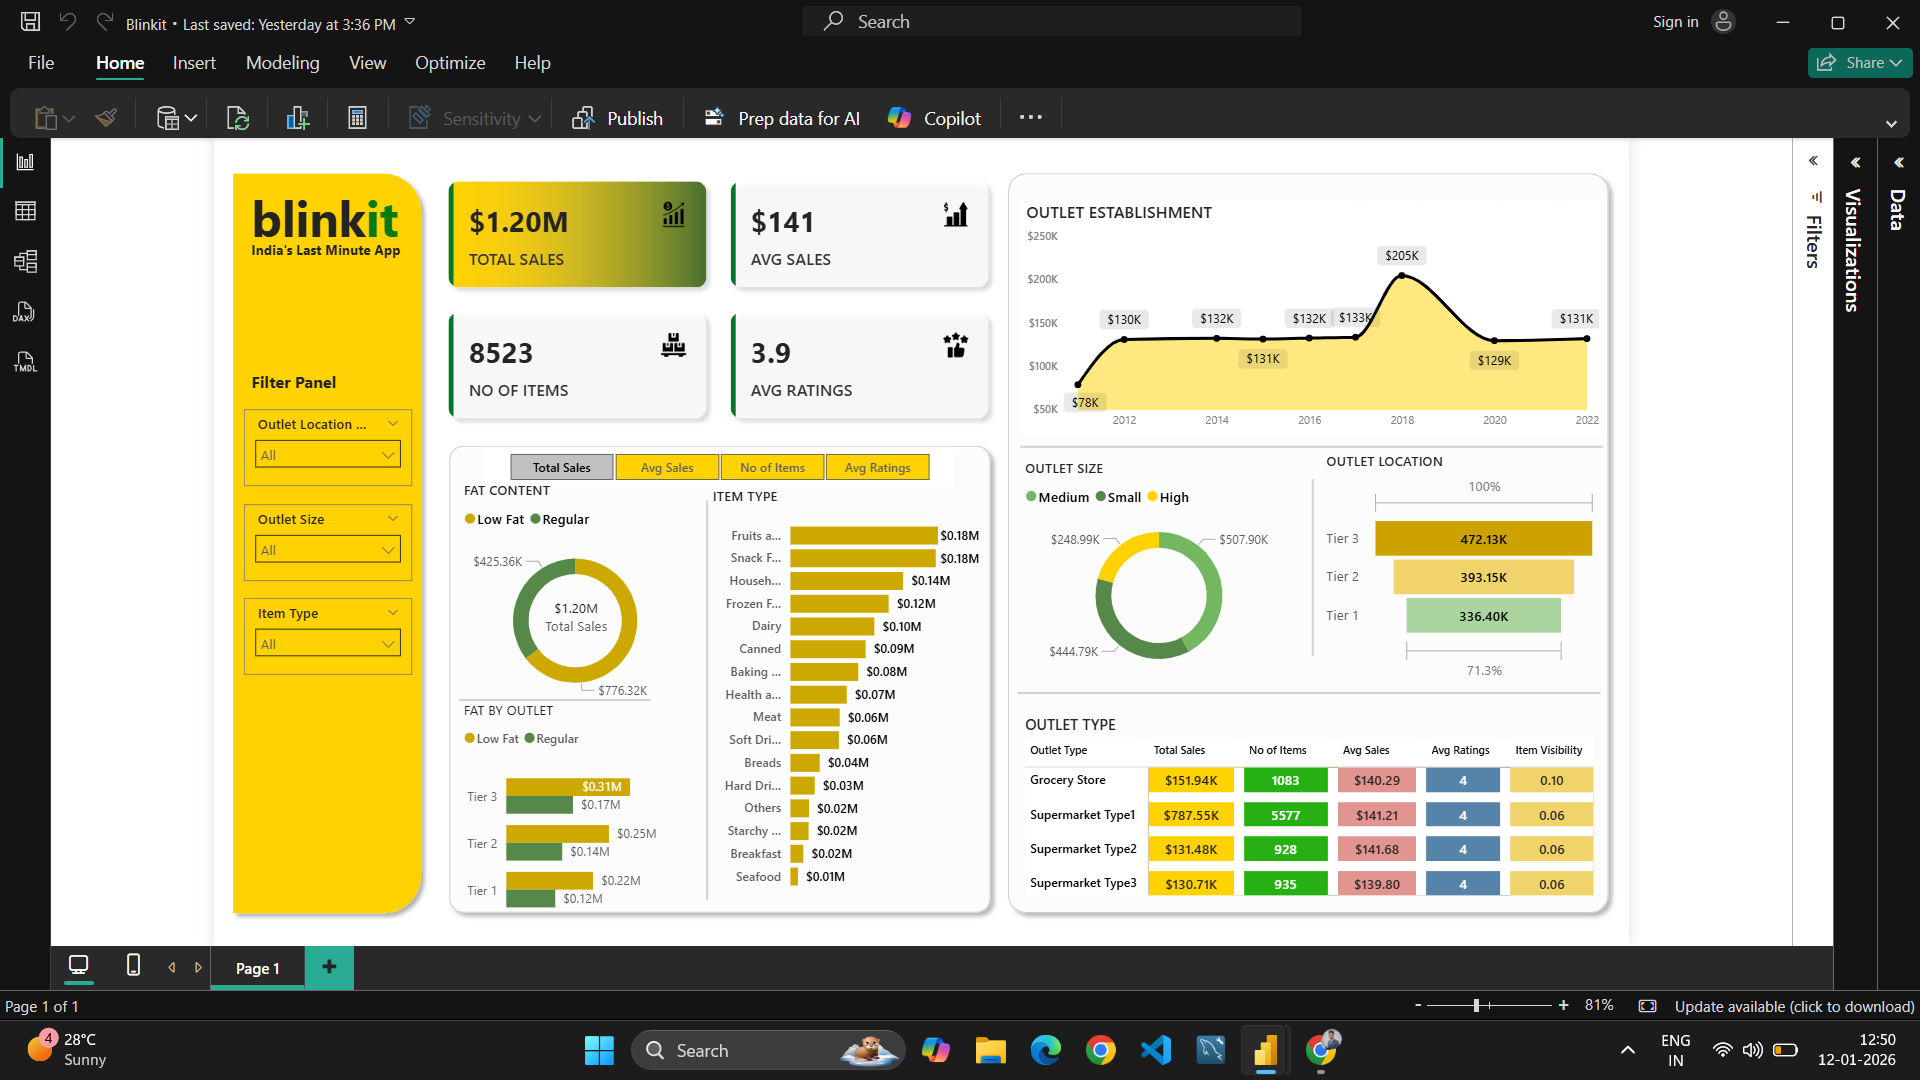

The dashboard page shown, as its layout file describes it:
{"tool":"powerbi","page":{"name":"Page 1","canvas":[1400,800],"ordinal":0},"visuals":[{"type":"shape","box":[10.5,25.5,204.1,750.4],"z":0},{"type":"textbox","box":[32.7,40.9,170.4,80.4],"z":1000},{"type":"textbox","box":[32.7,96.8,170.4,34.1],"z":2000},{"type":"cardVisual","fields":{"Data":["BlinkIT Grocery Data.Total Sales","BlinkIT Grocery Data.Avg Sales","BlinkIT Grocery Data.No of Items","BlinkIT Grocery Data.Avg Ratings"]},"box":[215.4,25.9,569.9,269.9],"z":3000},{"type":"shape","box":[223.6,295.8,553.5,479.9],"z":4000},{"type":"slicer","fields":{"Values":["Metrics.Metrics"]},"box":[267.2,305.4,464.9,39.5],"z":5000},{"type":"donutChart","title":"FAT CONTENT","fields":{"Y":["BlinkIT Grocery Data.Total Sales"],"Category":["BlinkIT Grocery Data.Item Fat Content"]},"box":[242.7,339.5,230.4,230.4],"z":6000},{"type":"cardVisual","fields":{"Data":["BlinkIT Grocery Data.Total Sales"]},"box":[302.7,439,111.8,61.4],"z":7000},{"type":"clusteredBarChart","title":"FAT BY OUTLET","fields":{"Y":["BlinkIT Grocery Data.Total Sales"],"Category":["BlinkIT Grocery Data.Outlet Location Type"],"Series":["BlinkIT Grocery Data.Item Fat Content"]},"box":[242.7,556.2,219.5,230.4],"z":8000},{"type":"shape","box":[242.7,541.2,189.5,28.6],"z":9000},{"type":"shape","box":[474.4,358.6,25.9,395.4],"z":10000},{"type":"clusteredBarChart","title":"ITEM TYPE","fields":{"Y":["BlinkIT Grocery Data.Total Sales"],"Category":["BlinkIT Grocery Data.Item Type"]},"box":[488.1,344.9,274,409],"z":11000},{"type":"shape","box":[777.1,25.9,612.1,749.8],"z":12000},{"type":"lineChart","title":"OUTLET ESTABLISHMENT","fields":{"Y":["BlinkIT Grocery Data.Total Sales"],"Category":["BlinkIT Grocery Data.Outlet Establishment Year"]},"box":[798.9,61.4,576.7,234.5],"z":13000},{"type":"shape","box":[797.6,291.8,576.7,27.3],"z":14000},{"type":"donutChart","title":"OUTLET SIZE","fields":{"Y":["BlinkIT Grocery Data.Total Sales"],"Category":["BlinkIT Grocery Data.Outlet Size"]},"box":[797.6,316.3,275,225],"z":15000},{"type":"shape","box":[1081.1,338.1,12.3,174.5],"z":16000},{"type":"funnel","title":"OUTLET LOCATION","fields":{"Y":["Sum(BlinkIT Grocery Data.Sales)"],"Category":["BlinkIT Grocery Data.Outlet Location Type"]},"box":[1096.1,310.8,278.1,230.4],"z":17000},{"type":"shape","box":[794.8,535.8,576.7,27.3],"z":18000},{"type":"pivotTable","title":"OUTLET TYPE","fields":{"Rows":["BlinkIT Grocery Data.Outlet Type"],"Values":["BlinkIT Grocery Data.Total Sales","BlinkIT Grocery Data.No of Items","BlinkIT Grocery Data.Avg Sales","BlinkIT Grocery Data.Avg Ratings","Avg(BlinkIT Grocery Data.Item Visibility)"]},"box":[797.6,569.9,574,212.7],"z":19000},{"type":"slicer","fields":{"Values":["BlinkIT Grocery Data.Outlet Size"]},"box":[30,362.6,166.3,76.3],"z":20000},{"type":"slicer","fields":{"Values":["BlinkIT Grocery Data.Outlet Location Type"]},"box":[30,268.6,166.3,76.3],"z":21000},{"type":"slicer","fields":{"Values":["BlinkIT Grocery Data.Item Type"]},"box":[30,455.4,166.3,76.3],"z":22000},{"type":"textbox","box":[32.7,225,170.4,34.1],"z":23000}]}

Visuals, with their boxes on the page's 1400x800 design canvas (x1, y1, x2, y2). These are canvas units, not pixel positions in the 1920x1080 screenshot, which may show the page scaled, cropped or inside an application window:
shape: region(10, 26, 215, 776)
textbox: region(33, 41, 203, 121)
textbox: region(33, 97, 203, 131)
cardVisual - BlinkIT Grocery Data.Total Sales x BlinkIT Grocery Data.Avg Sales: region(215, 26, 785, 296)
shape: region(224, 296, 777, 776)
slicer - Metrics.Metrics: region(267, 305, 732, 345)
"FAT CONTENT" donutChart: region(243, 340, 473, 570)
cardVisual - BlinkIT Grocery Data.Total Sales: region(303, 439, 414, 500)
"FAT BY OUTLET" clusteredBarChart: region(243, 556, 462, 787)
shape: region(243, 541, 432, 570)
shape: region(474, 359, 500, 754)
"ITEM TYPE" clusteredBarChart: region(488, 345, 762, 754)
shape: region(777, 26, 1389, 776)
"OUTLET ESTABLISHMENT" lineChart: region(799, 61, 1376, 296)
shape: region(798, 292, 1374, 319)
"OUTLET SIZE" donutChart: region(798, 316, 1073, 541)
shape: region(1081, 338, 1093, 513)
"OUTLET LOCATION" funnel: region(1096, 311, 1374, 541)
shape: region(795, 536, 1372, 563)
"OUTLET TYPE" pivotTable: region(798, 570, 1372, 783)
slicer - BlinkIT Grocery Data.Outlet Size: region(30, 363, 196, 439)
slicer - BlinkIT Grocery Data.Outlet Location Type: region(30, 269, 196, 345)
slicer - BlinkIT Grocery Data.Item Type: region(30, 455, 196, 532)
textbox: region(33, 225, 203, 259)
